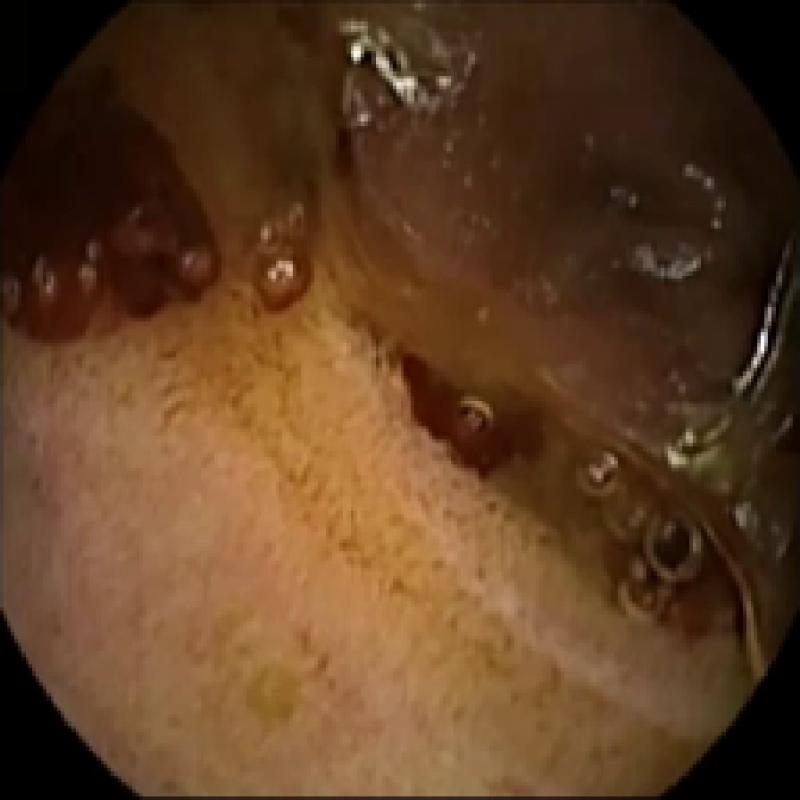bleeding: (0, 85, 204, 328), (399, 358, 548, 474)
